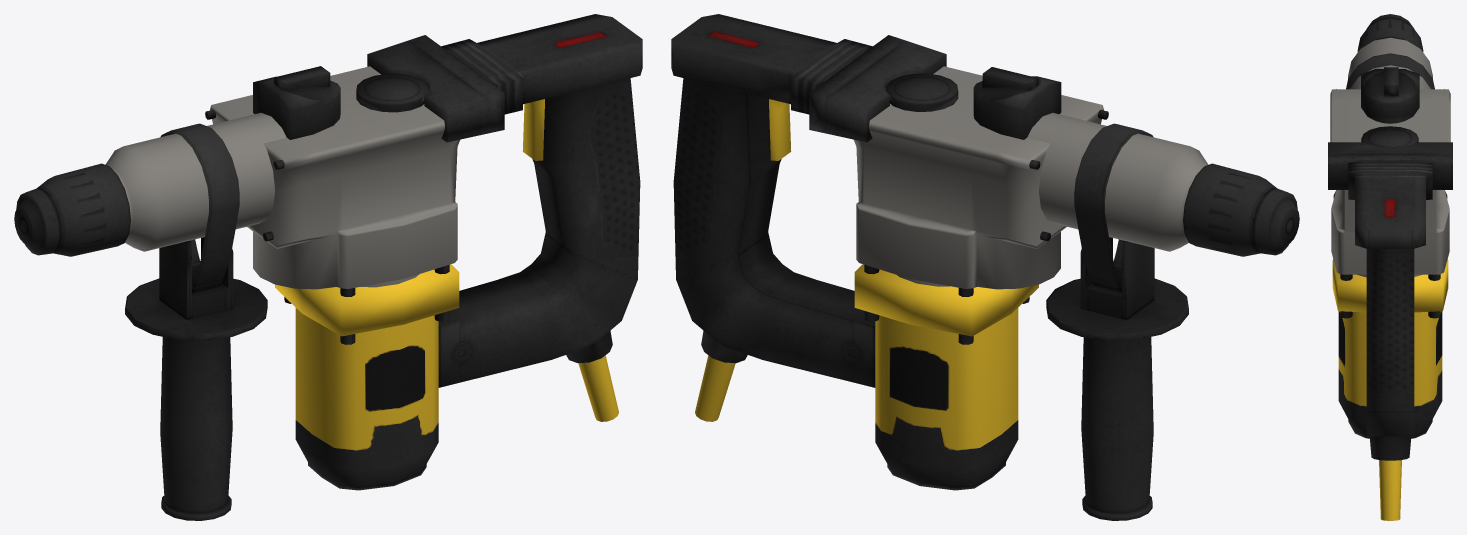
Rendered from dianchui.fbx.
The picture shows the model from 3 angles, left to right: view 1: azimuth 30°, elevation 25°; view 2: azimuth 150°, elevation 25°; view 3: azimuth 270°, elevation 25°; orthographic projection. The views are drawn at different scales.
Visible parts, largest first — view 1: dianchui2; view 2: dianchui2; view 3: dianchui2.
Boxes of the visible parts, left/top/right/bottom form: dianchui2: left=14, top=14, right=642, bottom=520; dianchui2: left=671, top=14, right=1299, bottom=520; dianchui2: left=1328, top=14, right=1452, bottom=520.
Size of the model in its own units: 23.67 by 15.61 by 5.38.
Materials: 1 (1 with a texture image).
